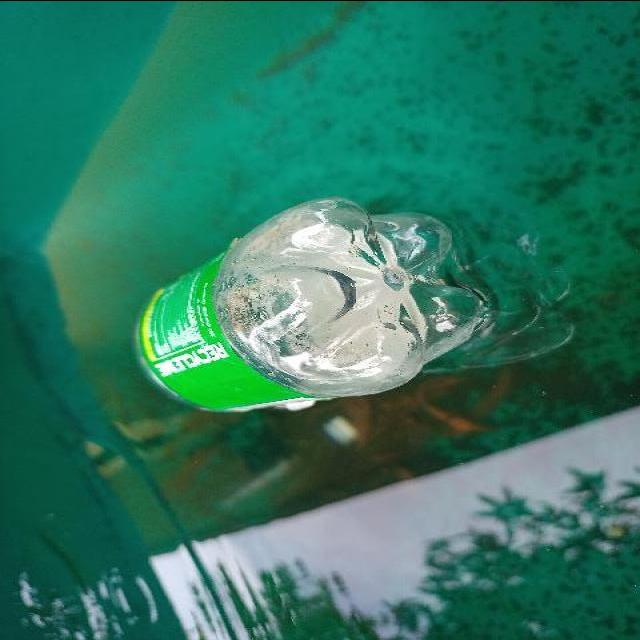Bottle: (131, 191, 490, 417)
